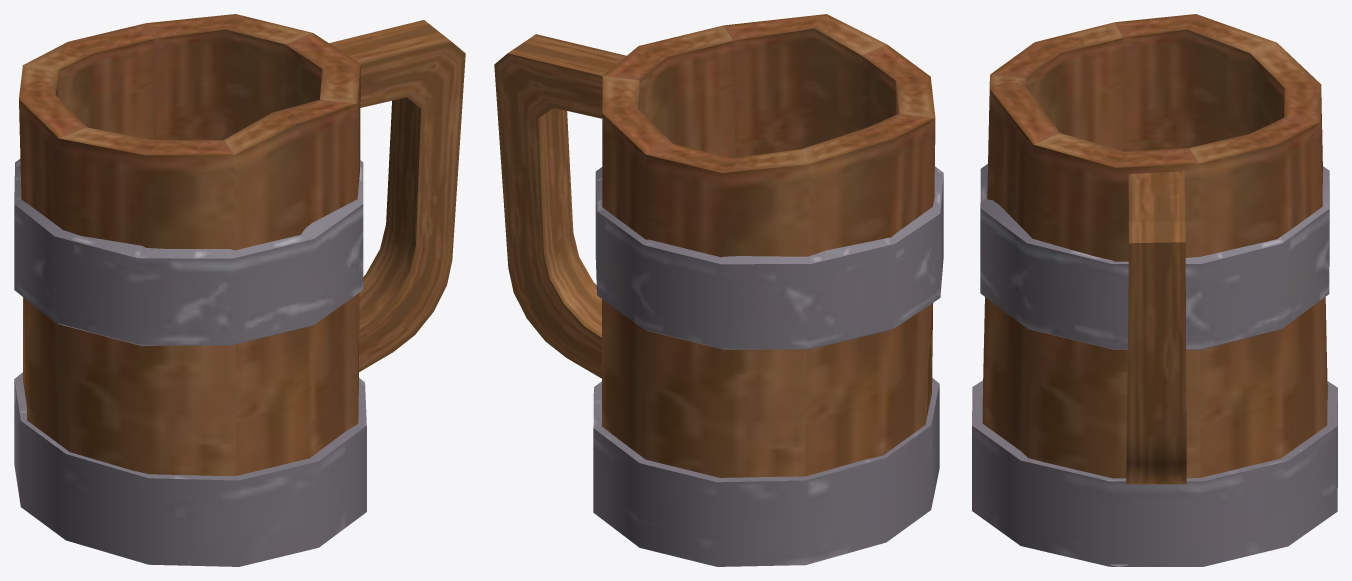
File: mug.glb
3 views of the same model, side by side, from view 1: azimuth 30°, elevation 25°; view 2: azimuth 150°, elevation 25°; view 3: azimuth 270°, elevation 25° (orthographic). The views are drawn at different scales.
Visible parts, largest first — view 1: Mug; view 2: Mug; view 3: Mug.
Boxes of the visible parts, <box> form: Mug: <box>14,14,465,566</box>; Mug: <box>494,14,943,566</box>; Mug: <box>972,14,1337,566</box>.
Bounding box in the file's own units: 0.1921 × 0.1839 × 0.1468.
2 materials, 2 textured.
